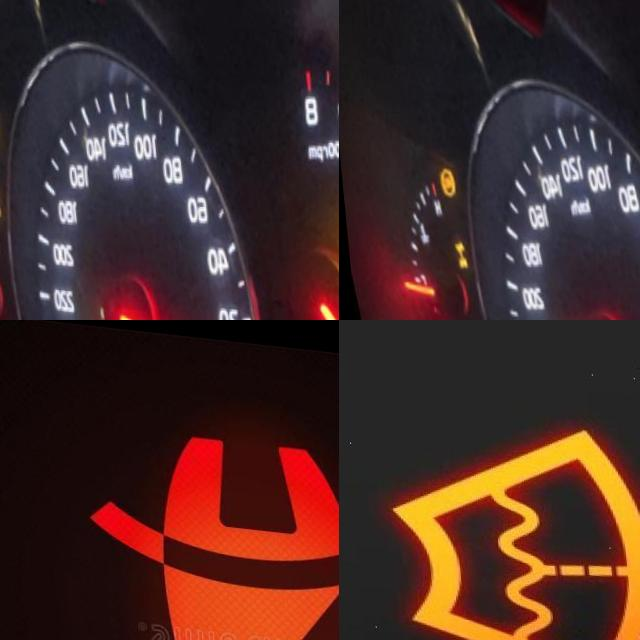Seat Belt: (80, 419, 339, 640)
Washer Fluid: (380, 398, 640, 640)
